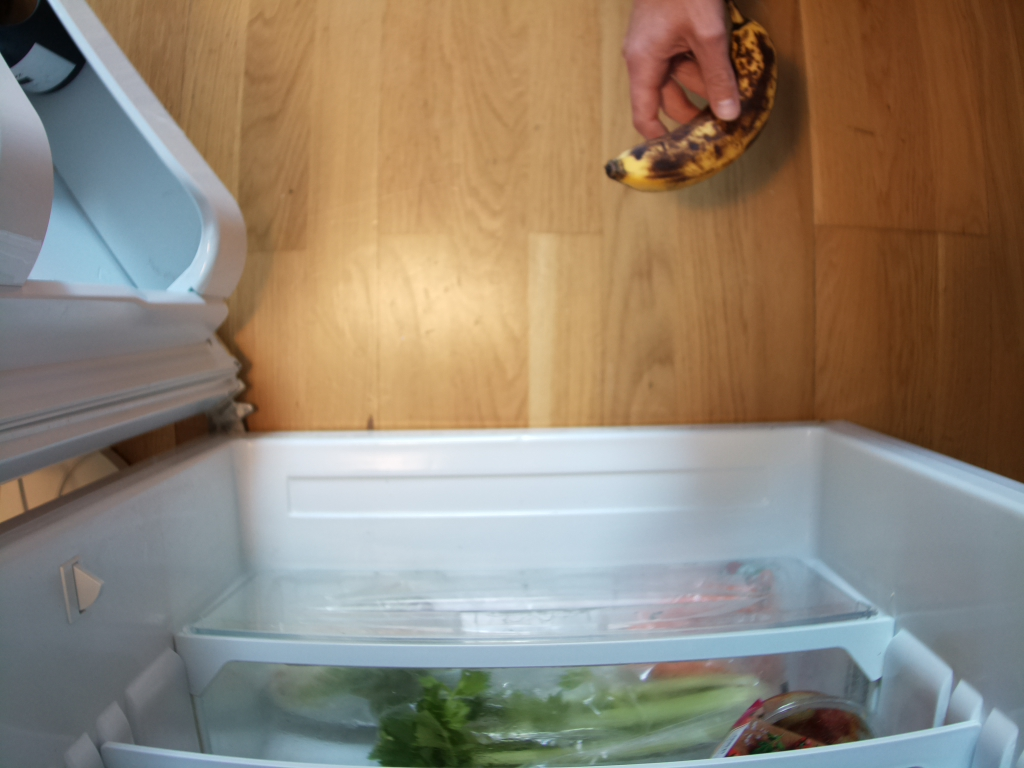banana-overripe: (603, 1, 777, 191)
